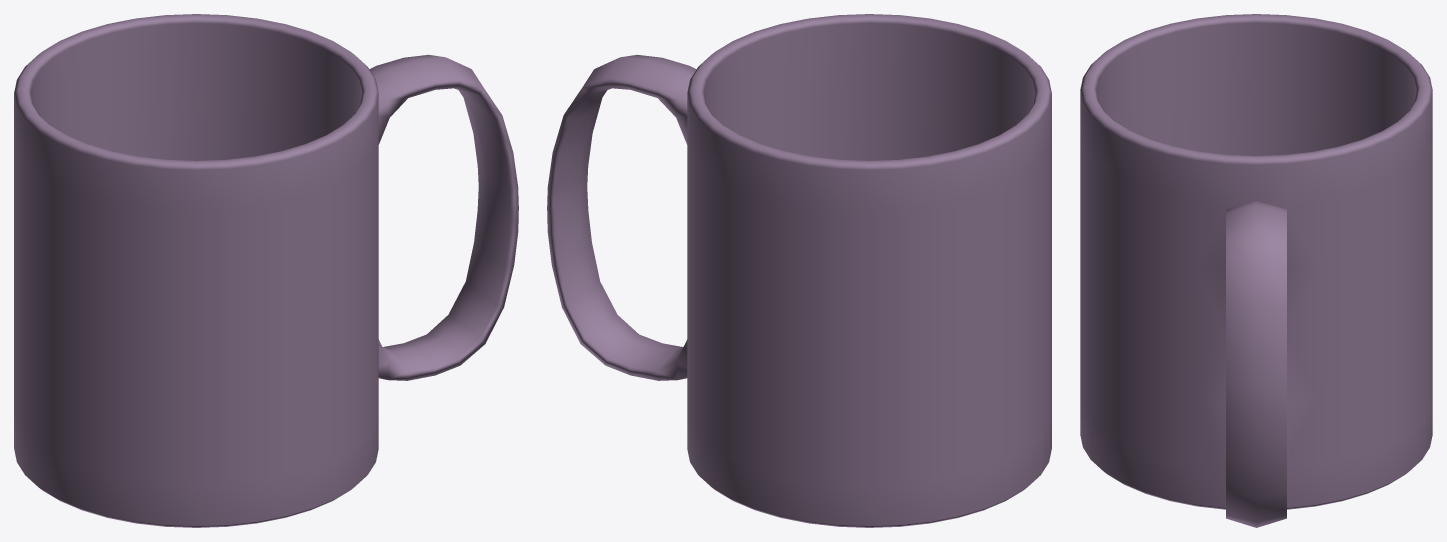
The model's file is mug.fbx.
The picture shows the model from 3 angles, left to right: view 1: azimuth 30°, elevation 25°; view 2: azimuth 150°, elevation 25°; view 3: azimuth 270°, elevation 25°; orthographic projection. The views are drawn at different scales.
Parts seen in each view (by area): view 1: mug; view 2: mug; view 3: mug.
Boxes of the visible parts, bbox=[...] form: mug: bbox=[14, 14, 518, 527]; mug: bbox=[547, 14, 1051, 527]; mug: bbox=[1080, 14, 1432, 527].
Size of the model in its own units: 14.87 by 11 by 10.
